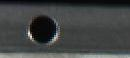holes: (26, 13, 59, 46)
